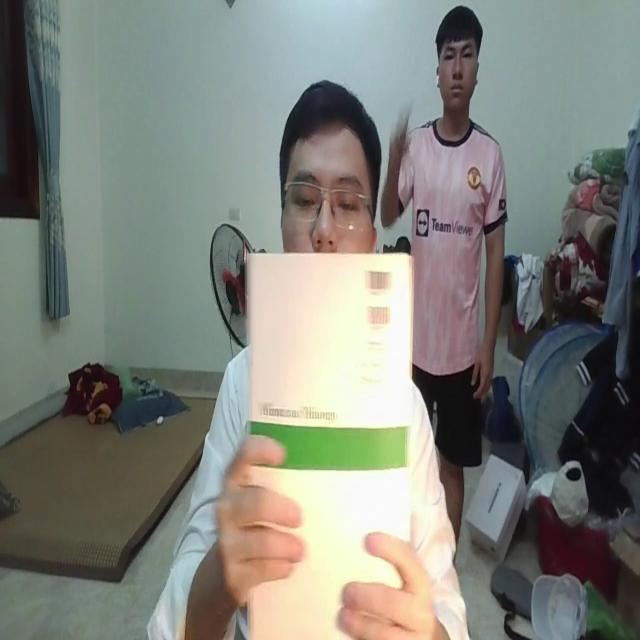book: (240, 239, 416, 640)
extra_person: (379, 7, 510, 506)
student: (154, 81, 464, 640)
